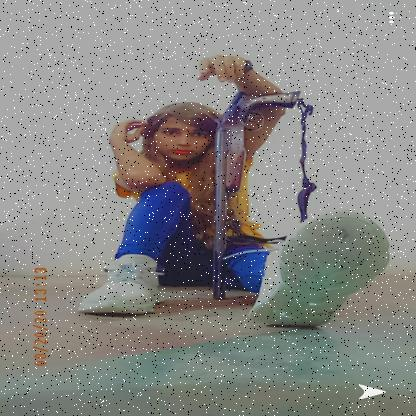rifle: (201, 90, 305, 304)
